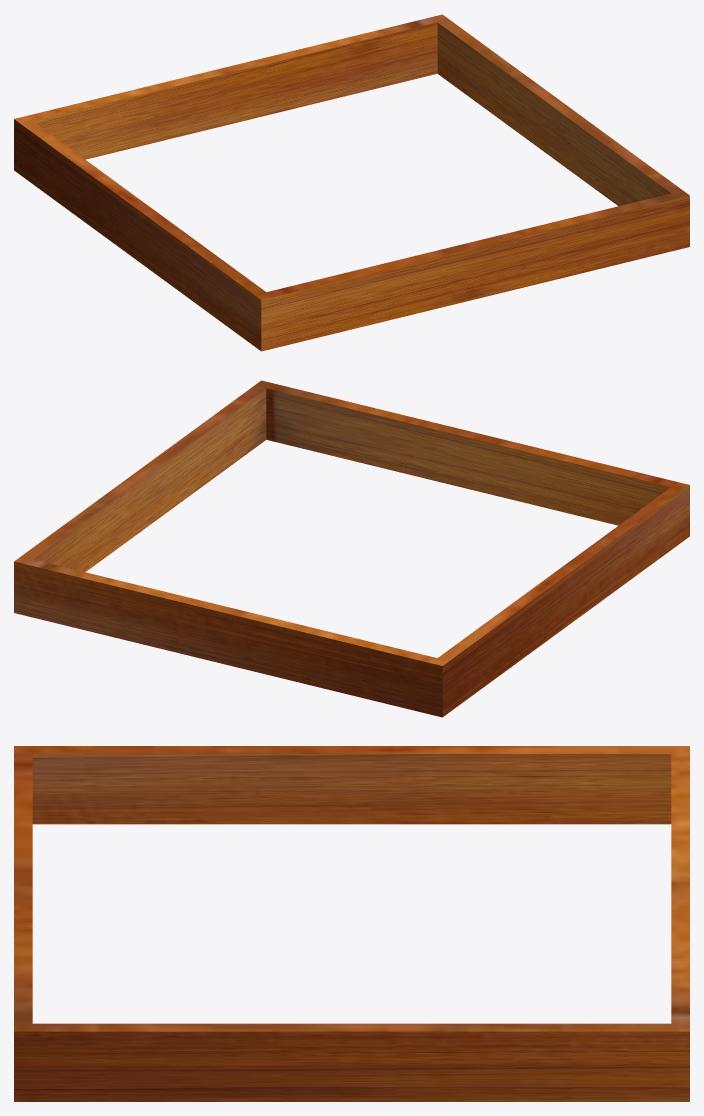
The model's file is edge.obj.
3 views of the same model, one above another, from view 1: azimuth 30°, elevation 25°; view 2: azimuth 150°, elevation 25°; view 3: azimuth 270°, elevation 25° (orthographic). The views are drawn at different scales.
Visible parts, largest first — view 1: Mesh_Grid.001; view 2: Mesh_Grid.001; view 3: Mesh_Grid.001.
Part boxes in pixels (<box>): Mesh_Grid.001: <box>14,14,689,351</box>; Mesh_Grid.001: <box>14,380,689,717</box>; Mesh_Grid.001: <box>14,746,689,1101</box>.
Bounding box in the file's own units: 22.5 × 2.58 × 22.5.
1 material, 1 textured.
